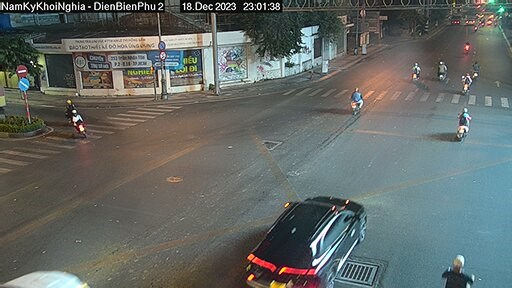car: (244, 194, 366, 288)
motorbike: (66, 109, 89, 142), (452, 106, 473, 139), (349, 85, 364, 112), (432, 58, 449, 79), (461, 74, 475, 97), (411, 65, 422, 80)
